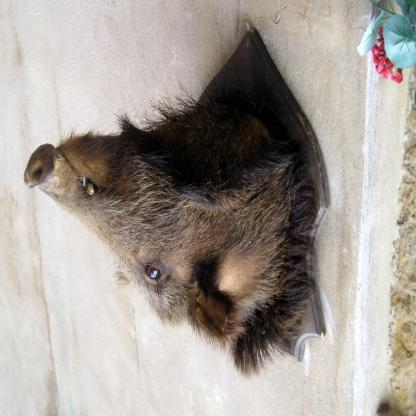boar: (24, 70, 320, 381)
